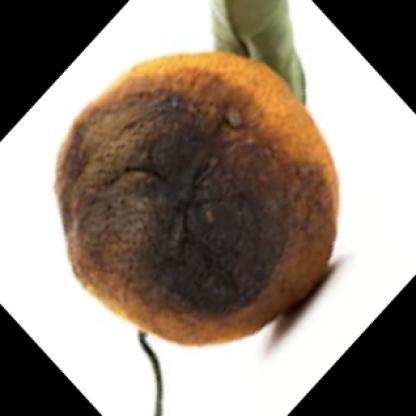rotten: (54, 54, 341, 346)
